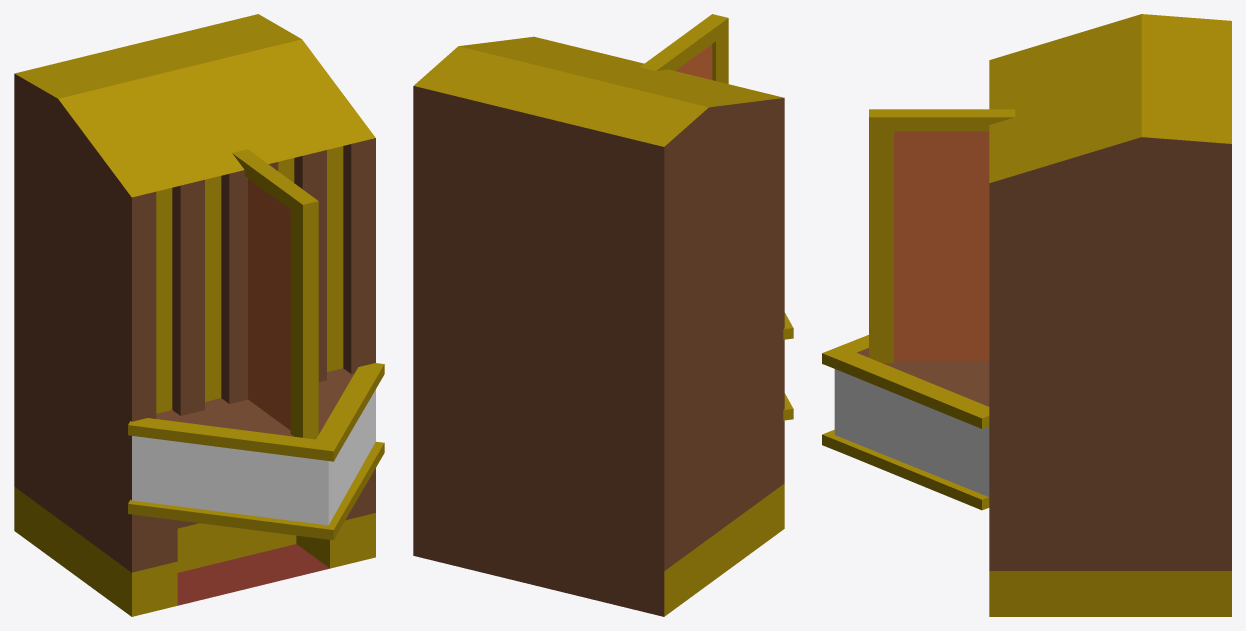
Rendered from JazzCinema3.obj.
3 renders of one model, left to right at view 1: azimuth 30°, elevation 25°; view 2: azimuth 150°, elevation 25°; view 3: azimuth 270°, elevation 25°, orthographic. The views are drawn at different scales.
Visible parts, largest first — view 1: KinoJazzDONE.002; view 2: KinoJazzDONE.002; view 3: KinoJazzDONE.002.
Boxes of the visible parts, <box> form: KinoJazzDONE.002: <box>14,14,384,616</box>; KinoJazzDONE.002: <box>413,14,793,616</box>; KinoJazzDONE.002: <box>822,14,1231,616</box>.
Bounding box in the file's own units: 6.28 × 10.9 × 8.44.
